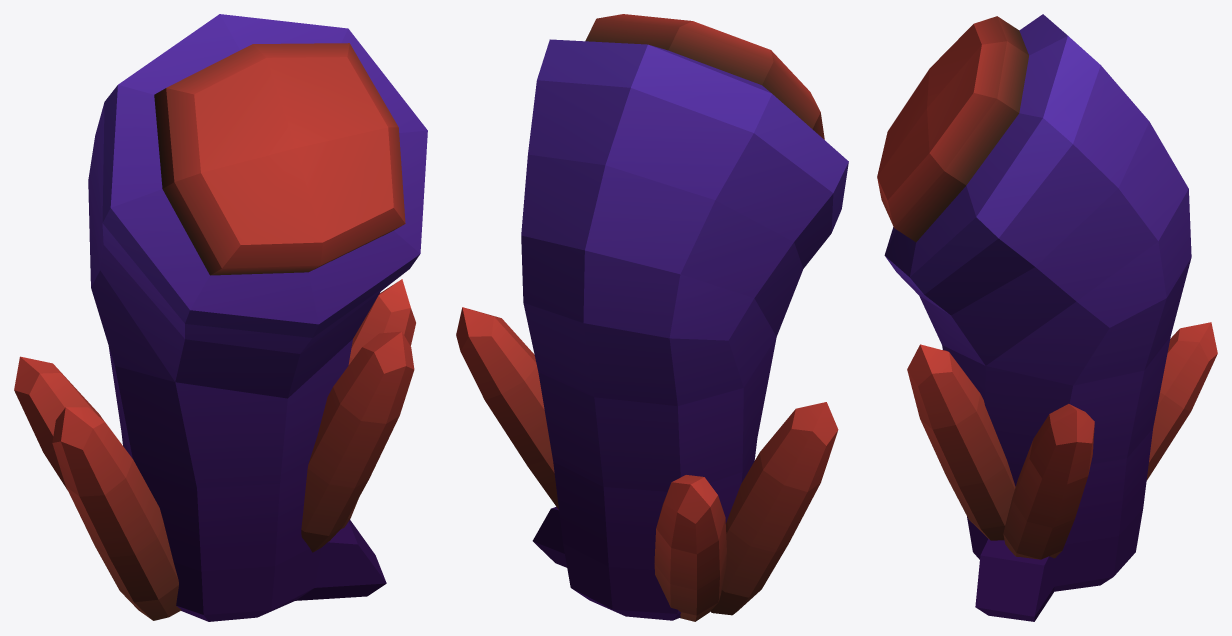
Rendered from anp_rock_3.fbx.
3 views of the same model, side by side, from view 1: azimuth 30°, elevation 25°; view 2: azimuth 150°, elevation 25°; view 3: azimuth 270°, elevation 25° (orthographic). The views are drawn at different scales.
Visible parts, largest first — view 1: rock3; view 2: rock3; view 3: rock3.
Boxes of the visible parts, box(x1,y1,x2,y2) form: rock3: box(14, 14, 427, 621); rock3: box(456, 14, 848, 621); rock3: box(877, 14, 1217, 621).
Bounding box in the file's own units: 61.38 × 91.48 × 52.67.
